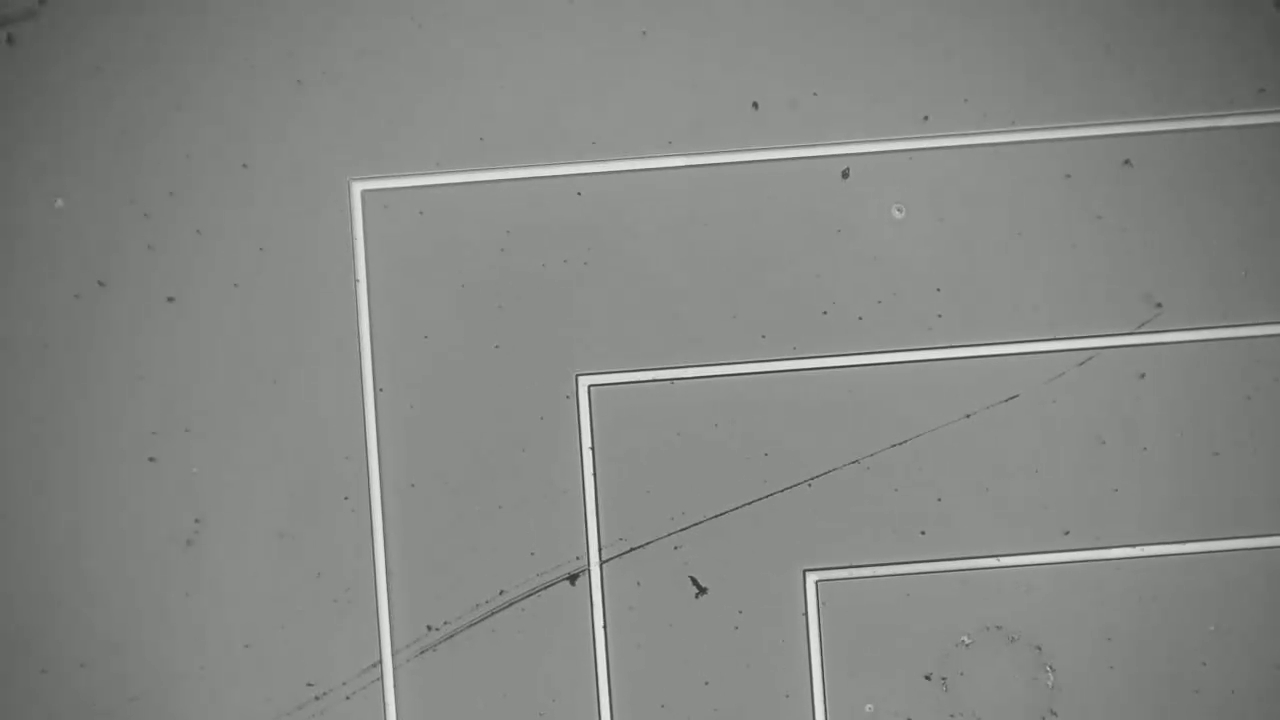scratch: (298, 290, 1178, 698)
